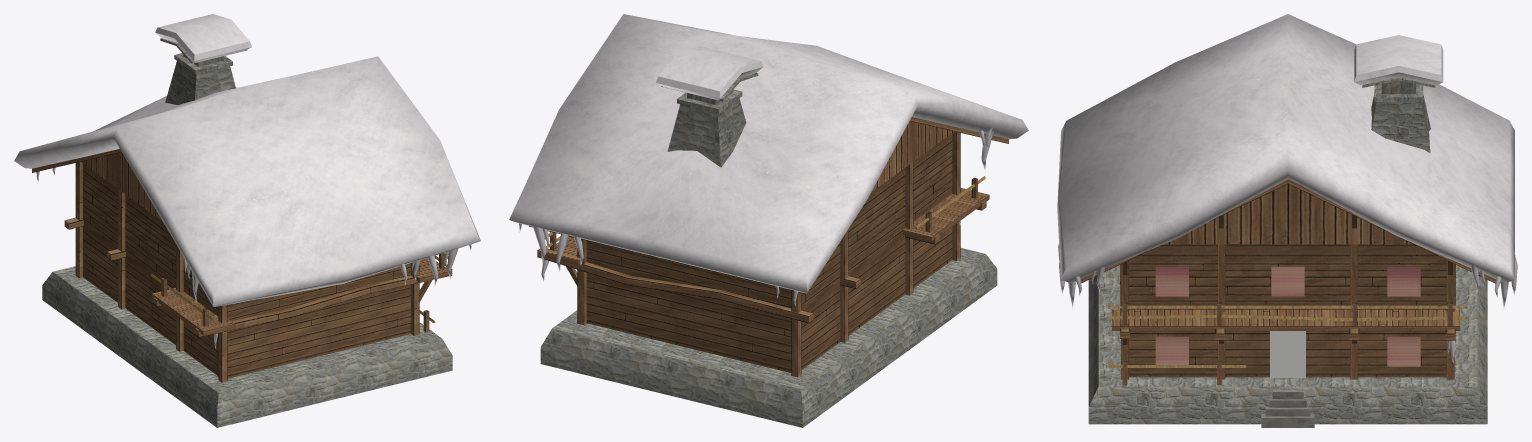
Rendered from lodge.glb.
3 views of the same model, side by side, from view 1: azimuth 30°, elevation 25°; view 2: azimuth 150°, elevation 25°; view 3: azimuth 270°, elevation 25° (orthographic). The views are drawn at different scales.
Visible parts, largest first — view 1: stk_generic_snow_a.png__, stktex_generic_WoodA.png__, stk_generic_wallRock_a.png__; view 2: stk_generic_snow_a.png__, stktex_generic_WoodA.png__, stk_generic_wallRock_a.png__; view 3: stk_generic_snow_a.png__, stktex_generic_WoodA.png__, stk_generic_wallRock_a.png__, stkflag_asianPaperLantern_a.png__, stktex_generic_WoodB.png__, ___, stktex_generic_concreteA.png__.
Part boxes in pixels (box(x1,y1,x2,y2)): stk_generic_snow_a.png__: box(14, 14, 480, 348); stktex_generic_WoodA.png__: box(32, 148, 452, 382); stk_generic_wallRock_a.png__: box(42, 38, 452, 427); stk_generic_snow_a.png__: box(509, 14, 1028, 305); stktex_generic_WoodA.png__: box(529, 117, 1008, 377); stk_generic_wallRock_a.png__: box(540, 73, 997, 427); stk_generic_snow_a.png__: box(1057, 14, 1517, 362); stktex_generic_WoodA.png__: box(1080, 179, 1495, 385); stk_generic_wallRock_a.png__: box(1088, 77, 1487, 424); stkflag_asianPaperLantern_a.png__: box(1155, 266, 1420, 366); stktex_generic_WoodB.png__: box(1105, 305, 1467, 367); ___: box(1270, 331, 1305, 377); stktex_generic_concreteA.png__: box(1261, 390, 1314, 427).
Bounding box in the file's own units: 9.69 × 8.96 × 11.93.
7 materials, 6 textured.
